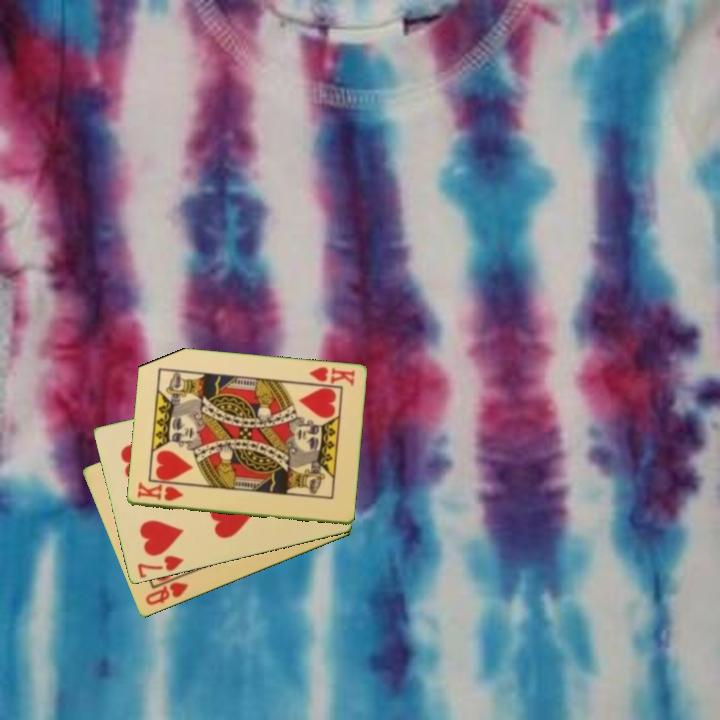7h: (134, 552, 187, 581)
Kh: (305, 364, 357, 389), (134, 480, 186, 504)
Qh: (142, 579, 191, 609)
